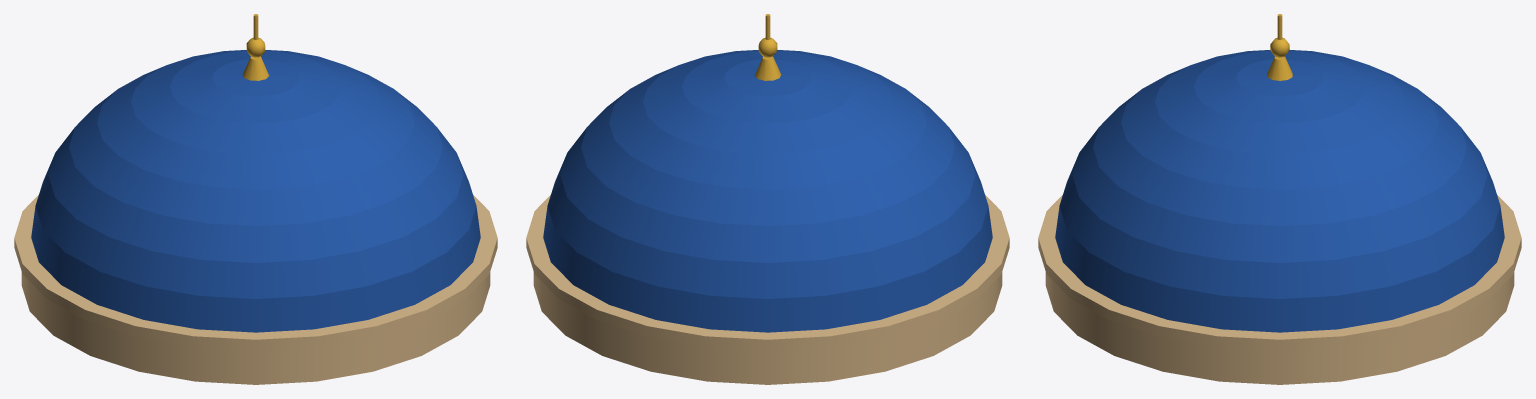
The model's file is dc_dome_blue.glb.
The picture shows the model from 3 angles, left to right: view 1: azimuth 30°, elevation 25°; view 2: azimuth 150°, elevation 25°; view 3: azimuth 270°, elevation 25°; orthographic projection.
Parts seen in each view (by area): view 1: dc_dome_blue; view 2: dc_dome_blue; view 3: dc_dome_blue.
Part boxes in pixels (x1,y1,x2,y2): dc_dome_blue: [14, 14, 497, 384]; dc_dome_blue: [526, 14, 1009, 384]; dc_dome_blue: [1038, 14, 1521, 384].
Size of the model in its own units: 5.16 by 3.19 by 5.16.
